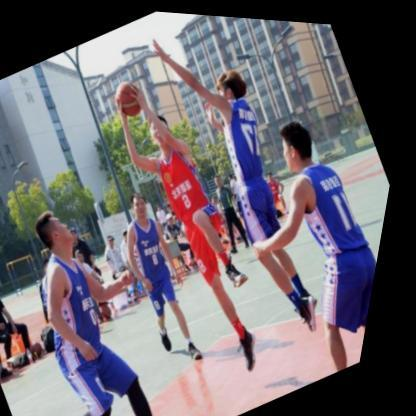basketball: (111, 76, 150, 119)
